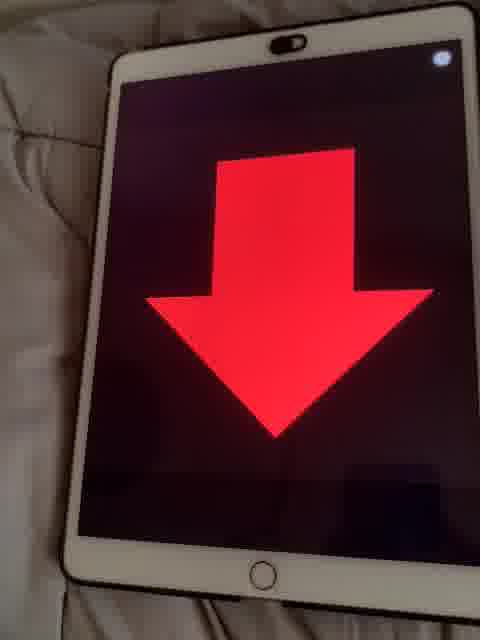down: (140, 142, 439, 443)
